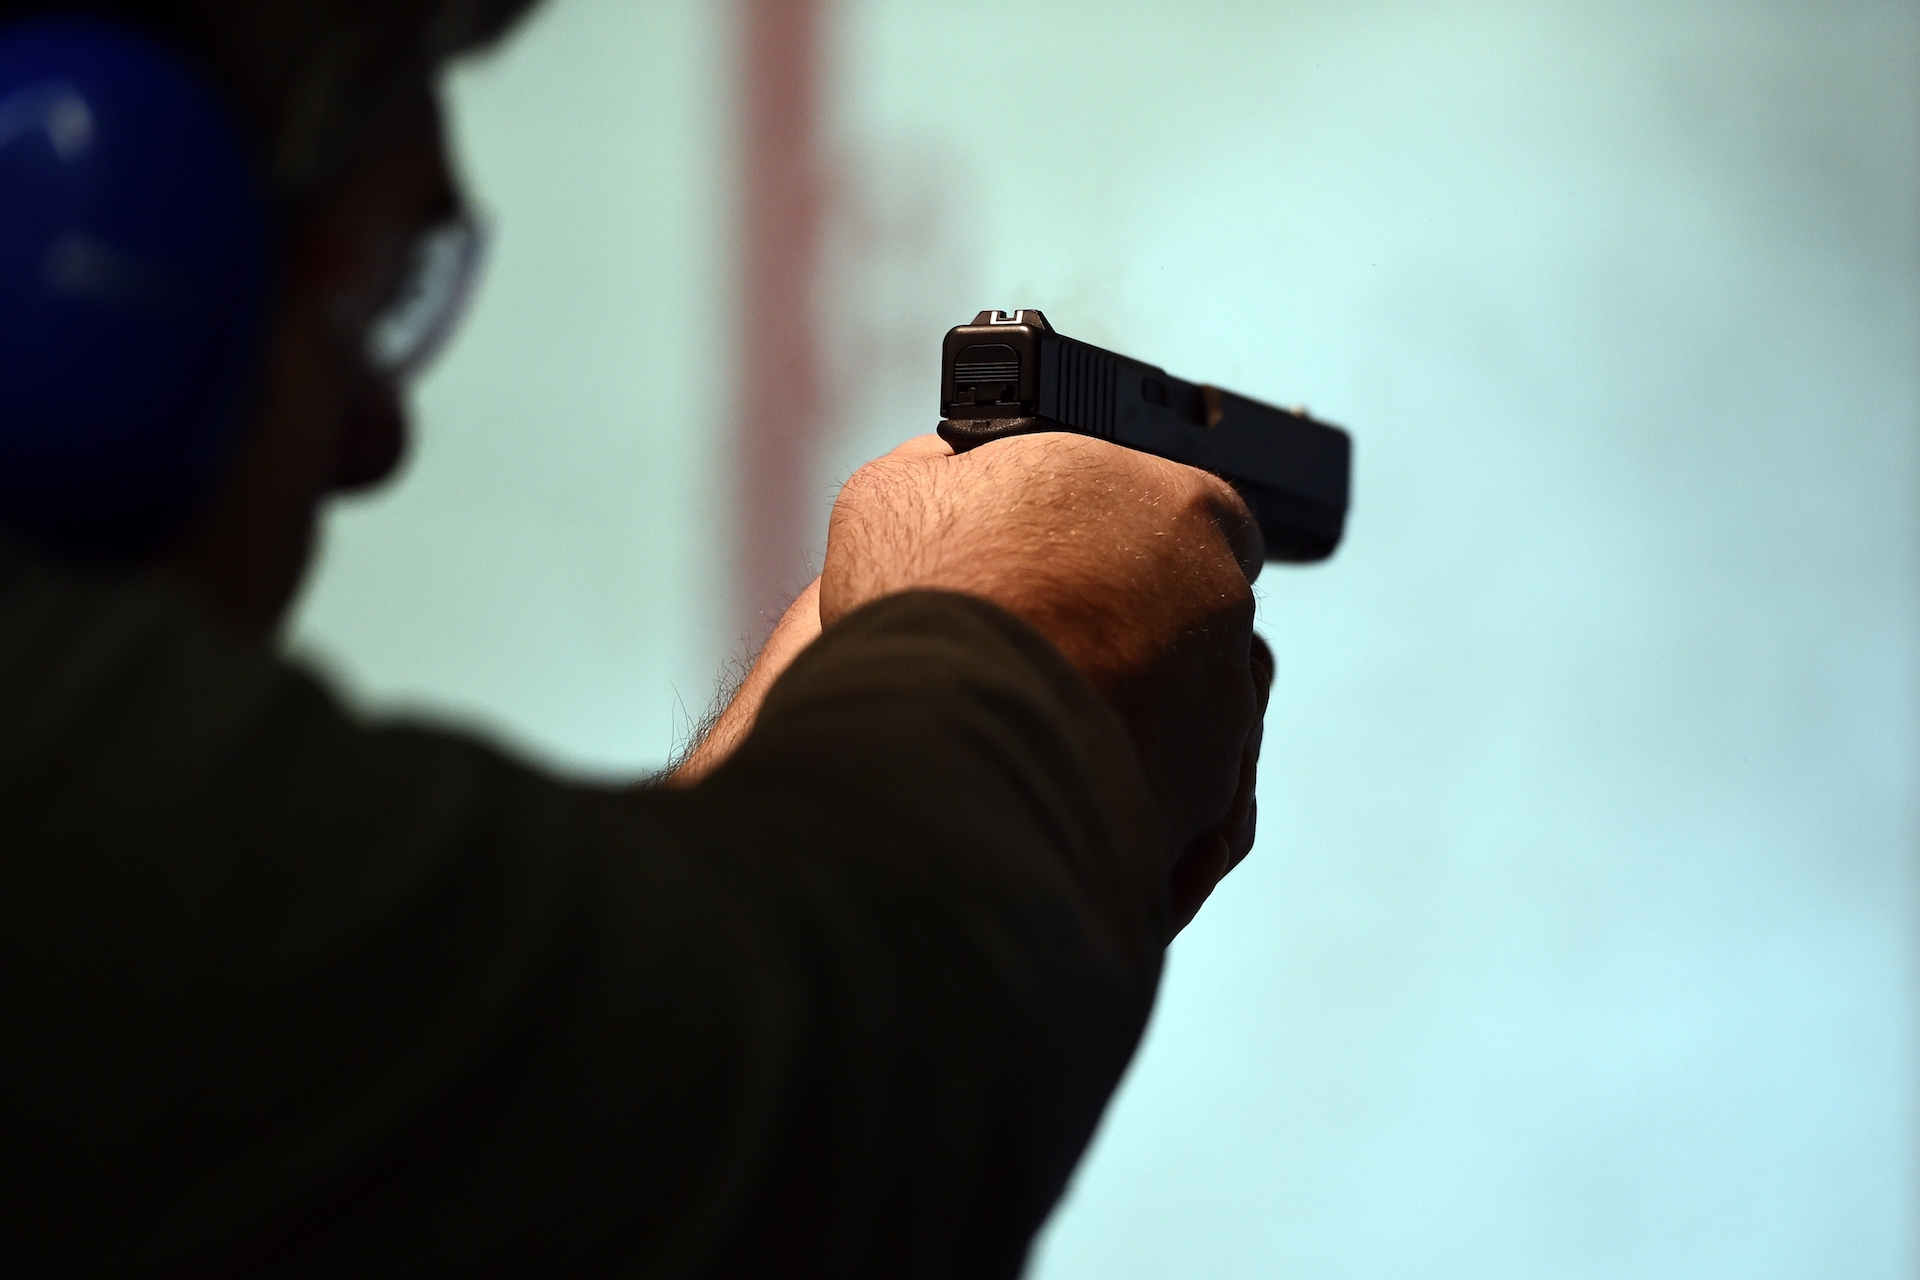pistol: (934, 307, 1359, 571)
